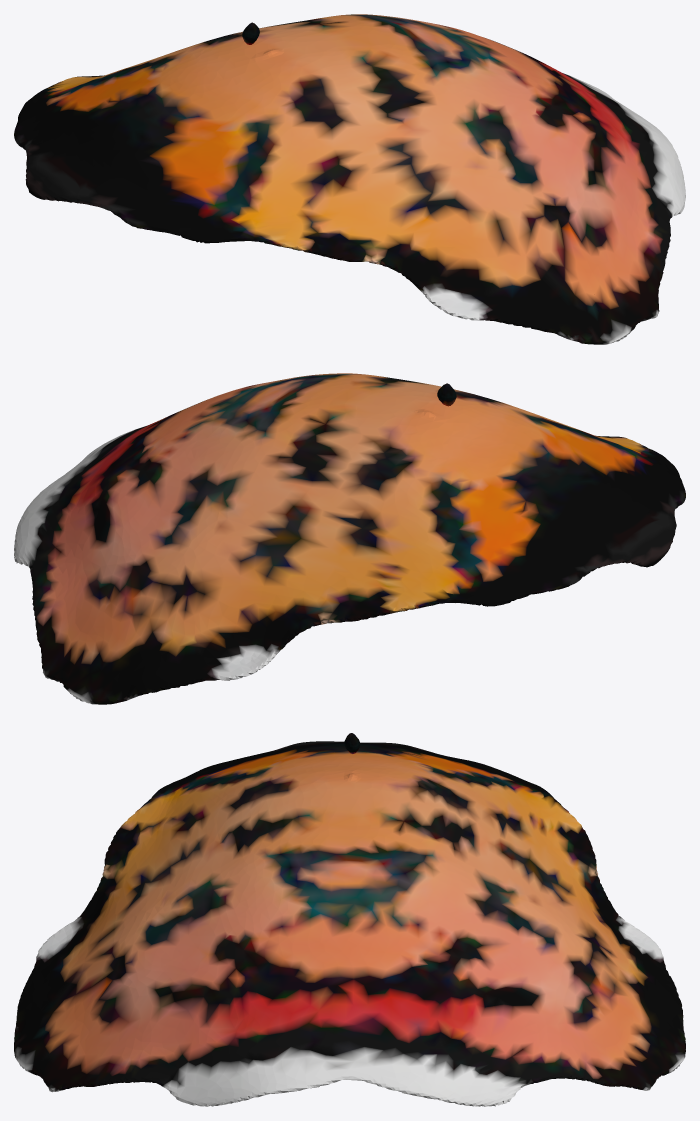
The model's file is brain.glb.
The picture shows the model from 3 angles, top to bottom: view 1: azimuth 30°, elevation 25°; view 2: azimuth 150°, elevation 25°; view 3: azimuth 270°, elevation 25°; orthographic projection. The views are drawn at different scales.
Visible parts, largest first — view 1: geometry_0; view 2: geometry_0; view 3: geometry_0.
Part boxes in pixels (x1,y1,x2,y2): geometry_0: [14, 14, 685, 344]; geometry_0: [14, 373, 685, 704]; geometry_0: [14, 733, 685, 1106].
Size of the model in its own units: 0.6875 by 0.2692 by 0.6867.
